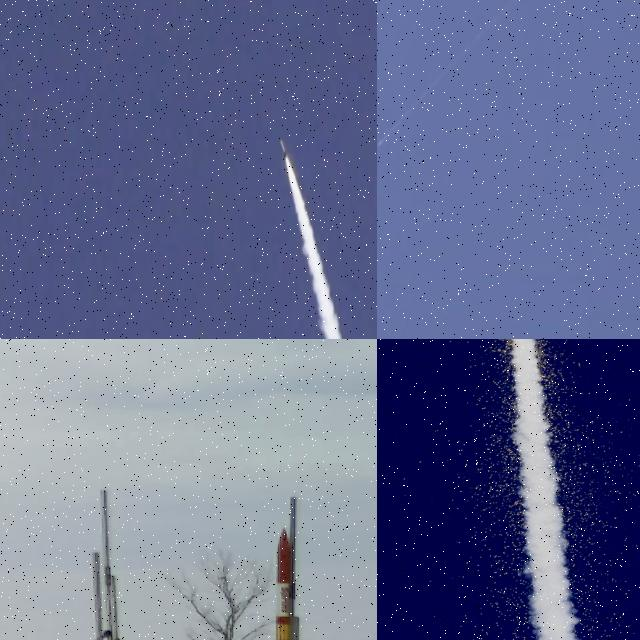Rocket: (248, 526, 308, 640), (280, 137, 288, 157), (377, 140, 381, 148)
